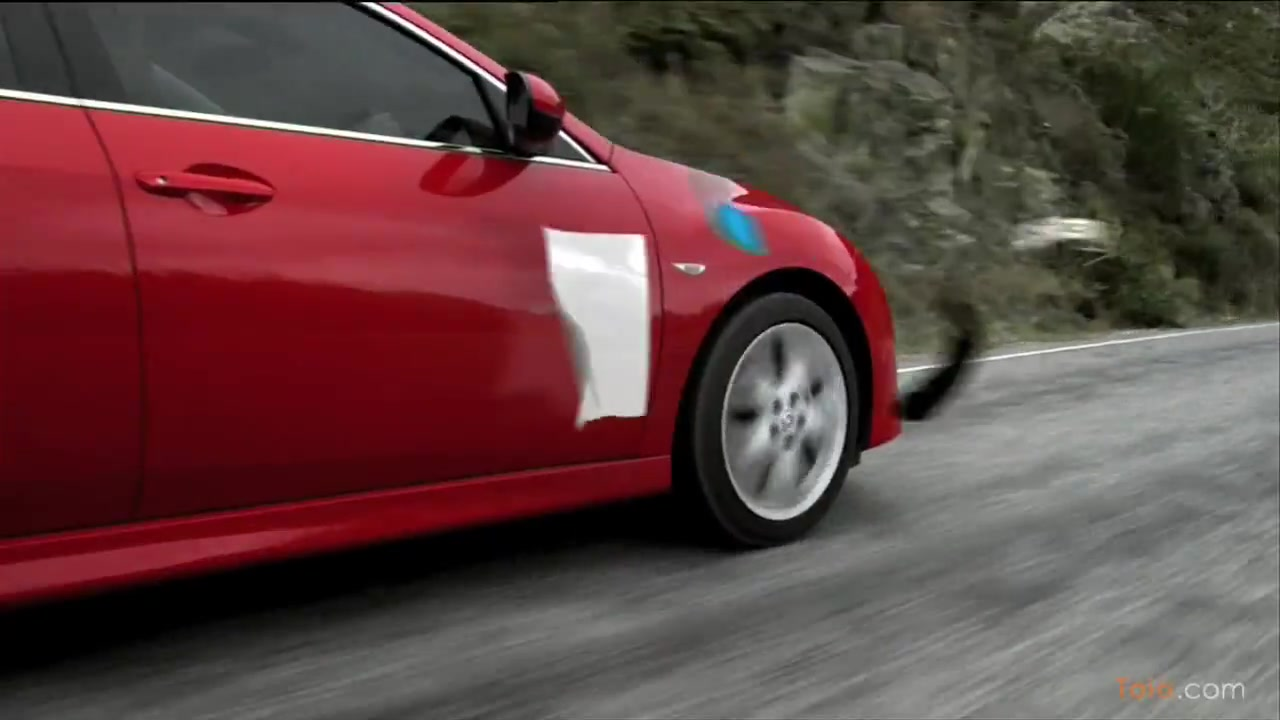car: (4, 1, 905, 623)
